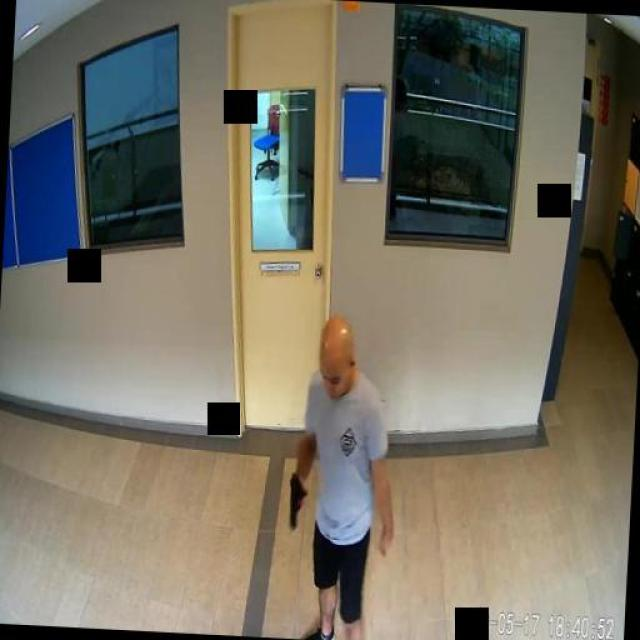gun: (286, 469, 308, 529)
